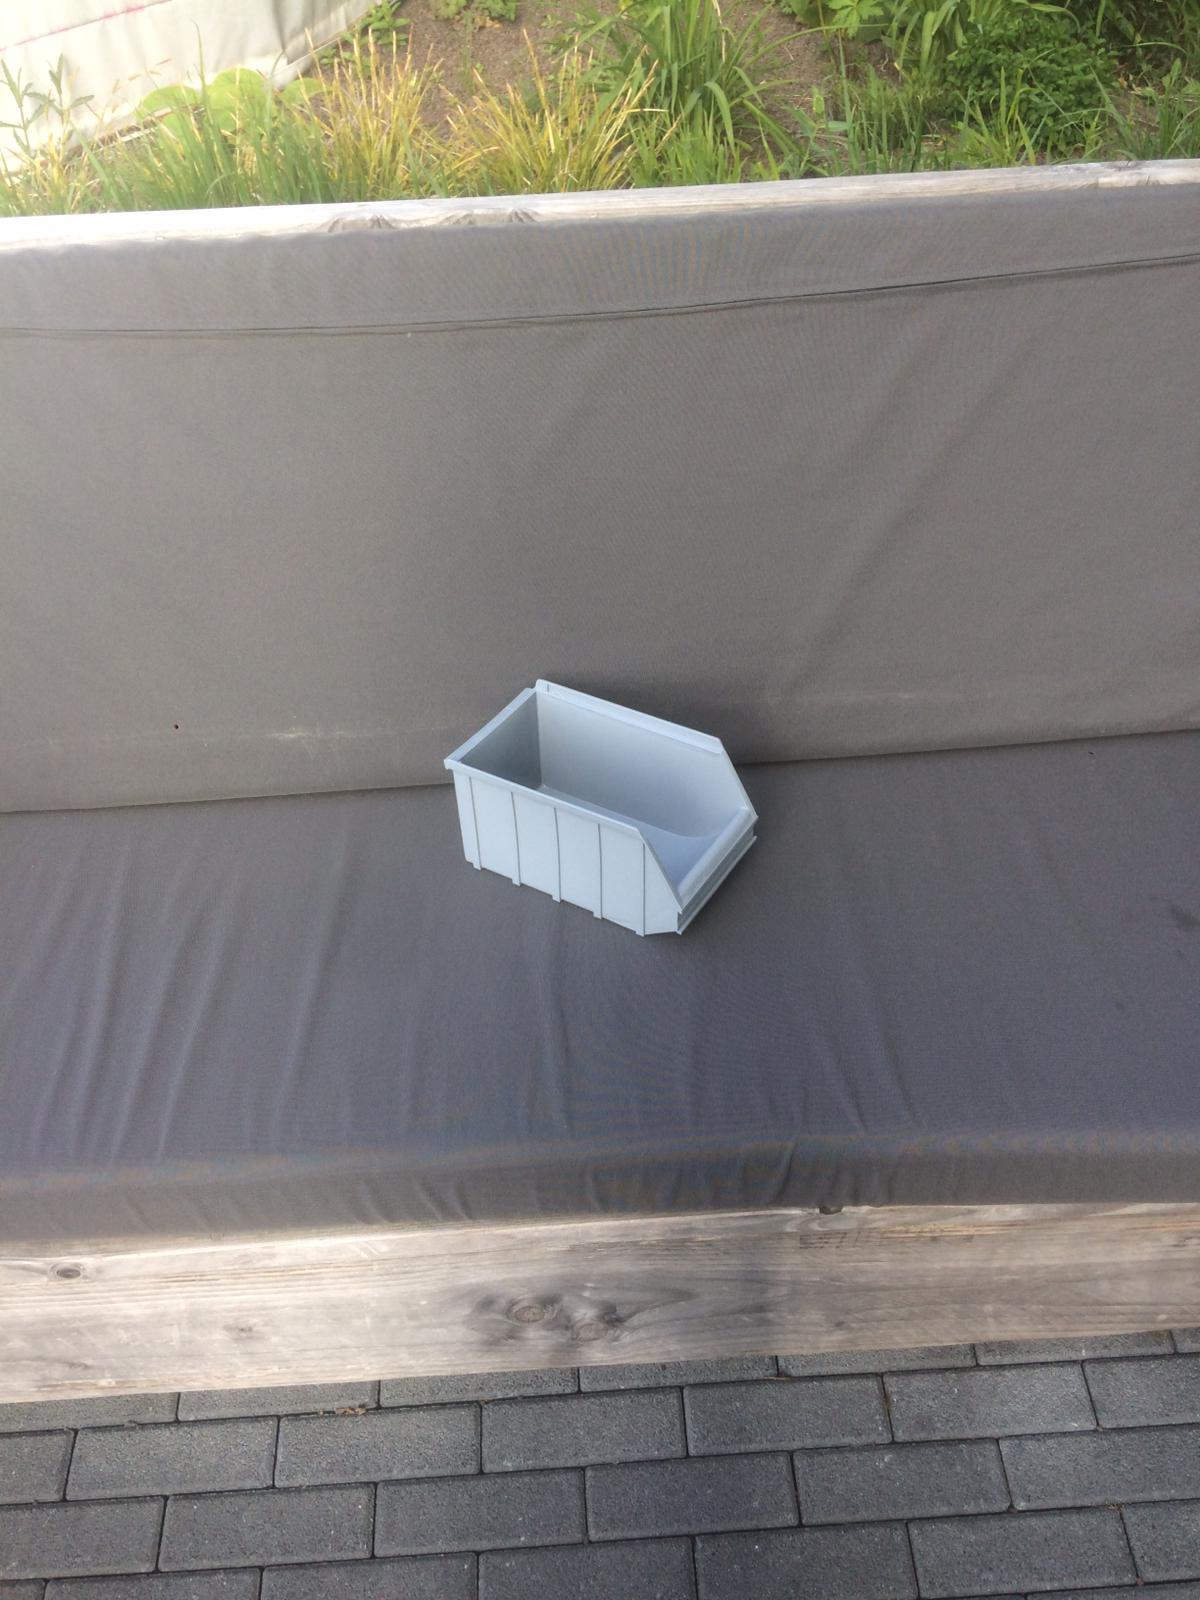tray_front: (642, 726, 759, 941)
tray_left: (454, 753, 678, 936)
